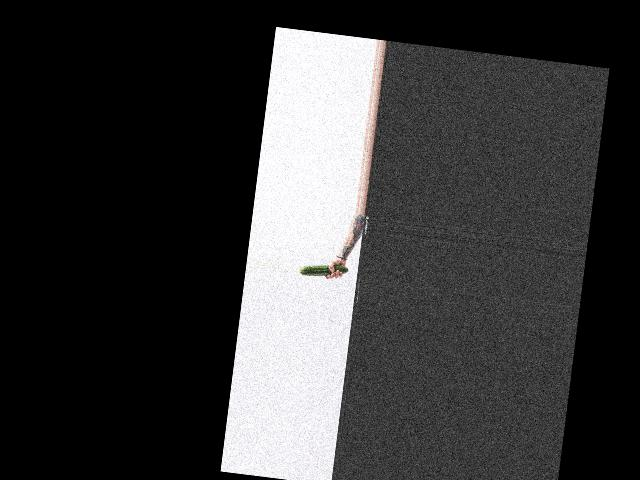cucumber: (299, 261, 348, 281)
